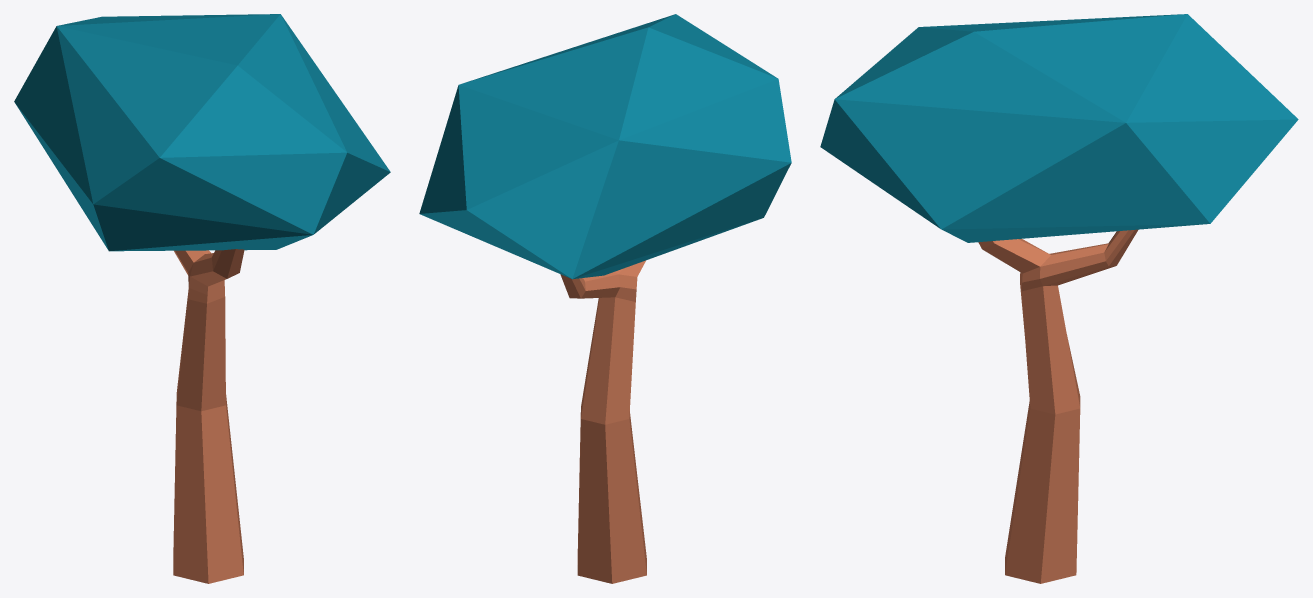
The model's file is Tree_07_summer_blue_mat.fbx.
3 views of the same model, side by side, from view 1: azimuth 30°, elevation 25°; view 2: azimuth 150°, elevation 25°; view 3: azimuth 270°, elevation 25° (orthographic). The views are drawn at different scales.
Parts seen in each view (by area): view 1: Tree_07_summer_blue_mat; view 2: Tree_07_summer_blue_mat; view 3: Tree_07_summer_blue_mat.
Boxes of the visible parts, x1=… form: Tree_07_summer_blue_mat: x1=14, y1=14, x2=390, y2=583; Tree_07_summer_blue_mat: x1=419, y1=14, x2=791, y2=583; Tree_07_summer_blue_mat: x1=820, y1=14, x2=1298, y2=583.
Size of the model in its own units: 134 by 238 by 194.
